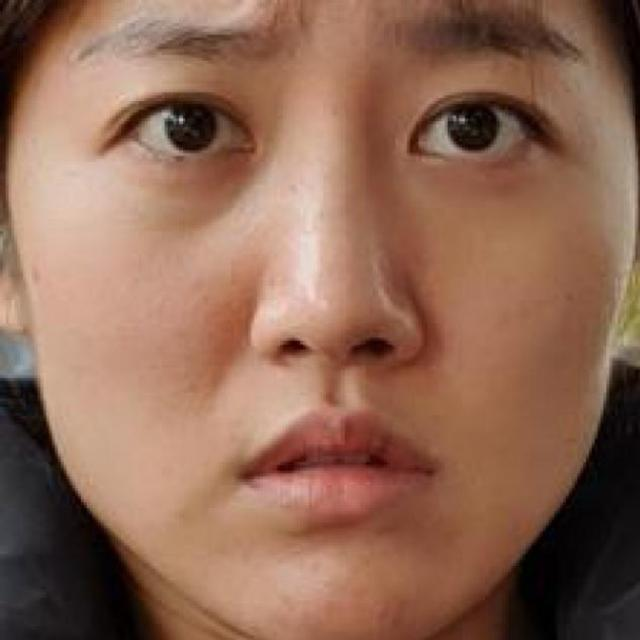natural: (51, 0, 592, 640)
